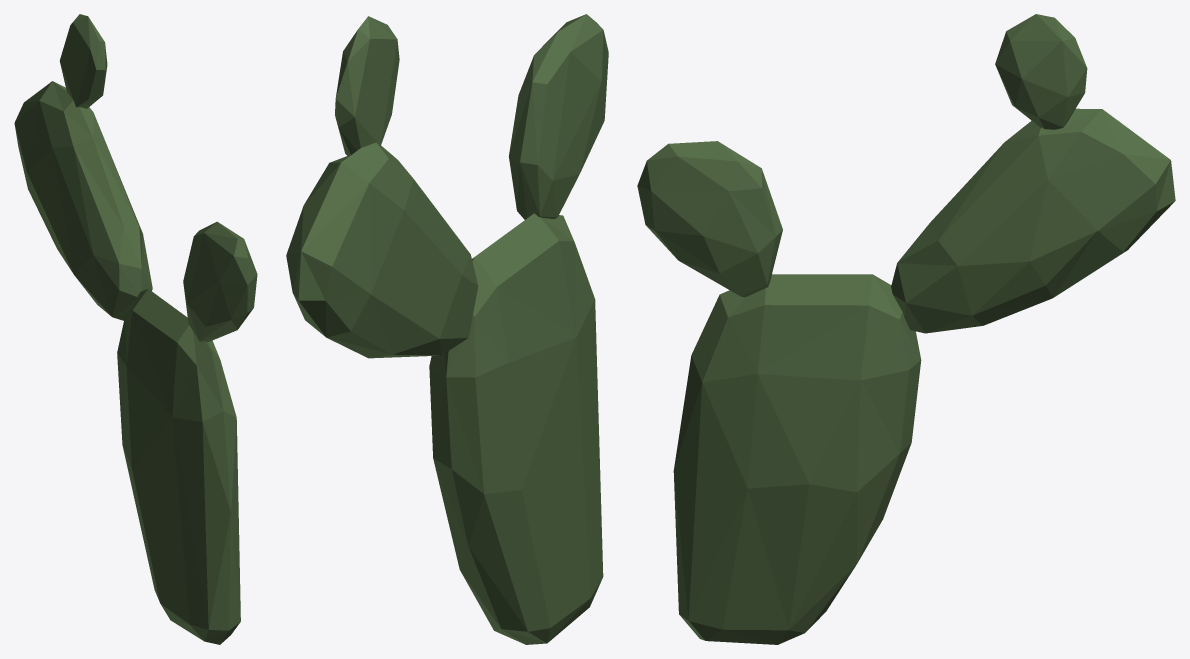
File: Cactus_5.lod1.glb
The picture shows the model from 3 angles, left to right: view 1: azimuth 30°, elevation 25°; view 2: azimuth 150°, elevation 25°; view 3: azimuth 270°, elevation 25°; orthographic projection. The views are drawn at different scales.
Parts seen in each view (by area): view 1: Cactus_5; view 2: Cactus_5; view 3: Cactus_5.
Part boxes in pixels (box(x1,y1,x2,y2)): Cactus_5: box(14, 14, 257, 644); Cactus_5: box(286, 14, 608, 644); Cactus_5: box(637, 14, 1175, 644).
Size of the model in its own units: 0.1118 by 0.8804 by 0.6801.
